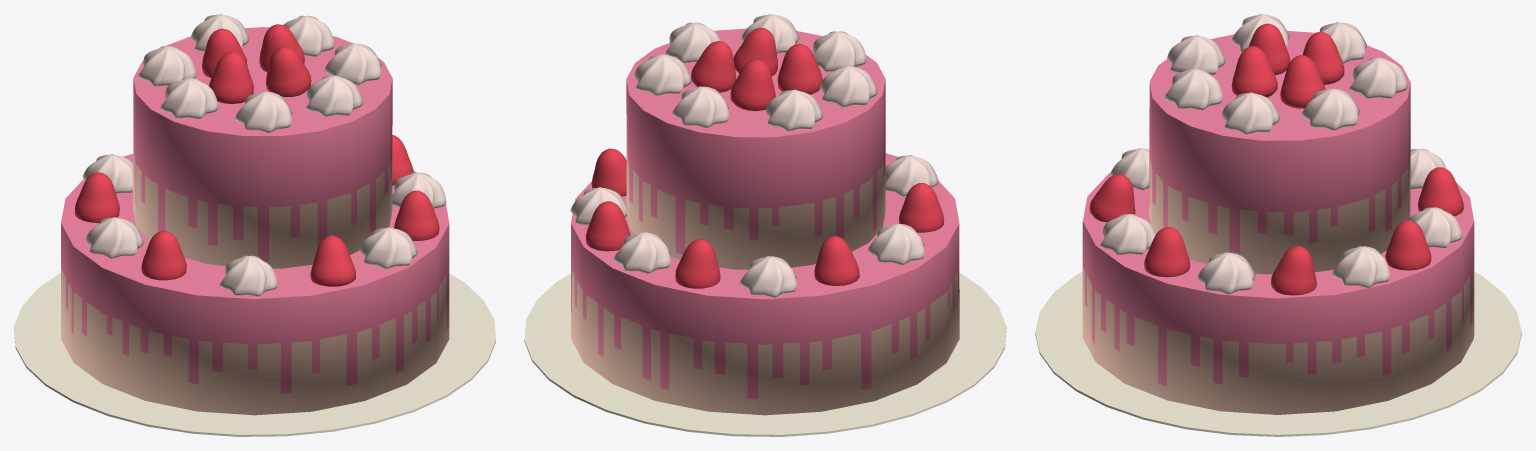
The model's file is Cilek_3.fbx.
3 renders of one model, left to right at view 1: azimuth 30°, elevation 25°; view 2: azimuth 150°, elevation 25°; view 3: azimuth 270°, elevation 25°, orthographic.
Parts seen in each view (by area): view 1: Cilekli_Kek_3; view 2: Cilekli_Kek_3; view 3: Cilekli_Kek_3.
Part boxes in pixels (box(x1,y1,x2,y2)): Cilekli_Kek_3: box(14, 14, 495, 436); Cilekli_Kek_3: box(524, 14, 1006, 436); Cilekli_Kek_3: box(1035, 14, 1521, 436).
Size of the model in its own units: 300 by 201 by 300.
